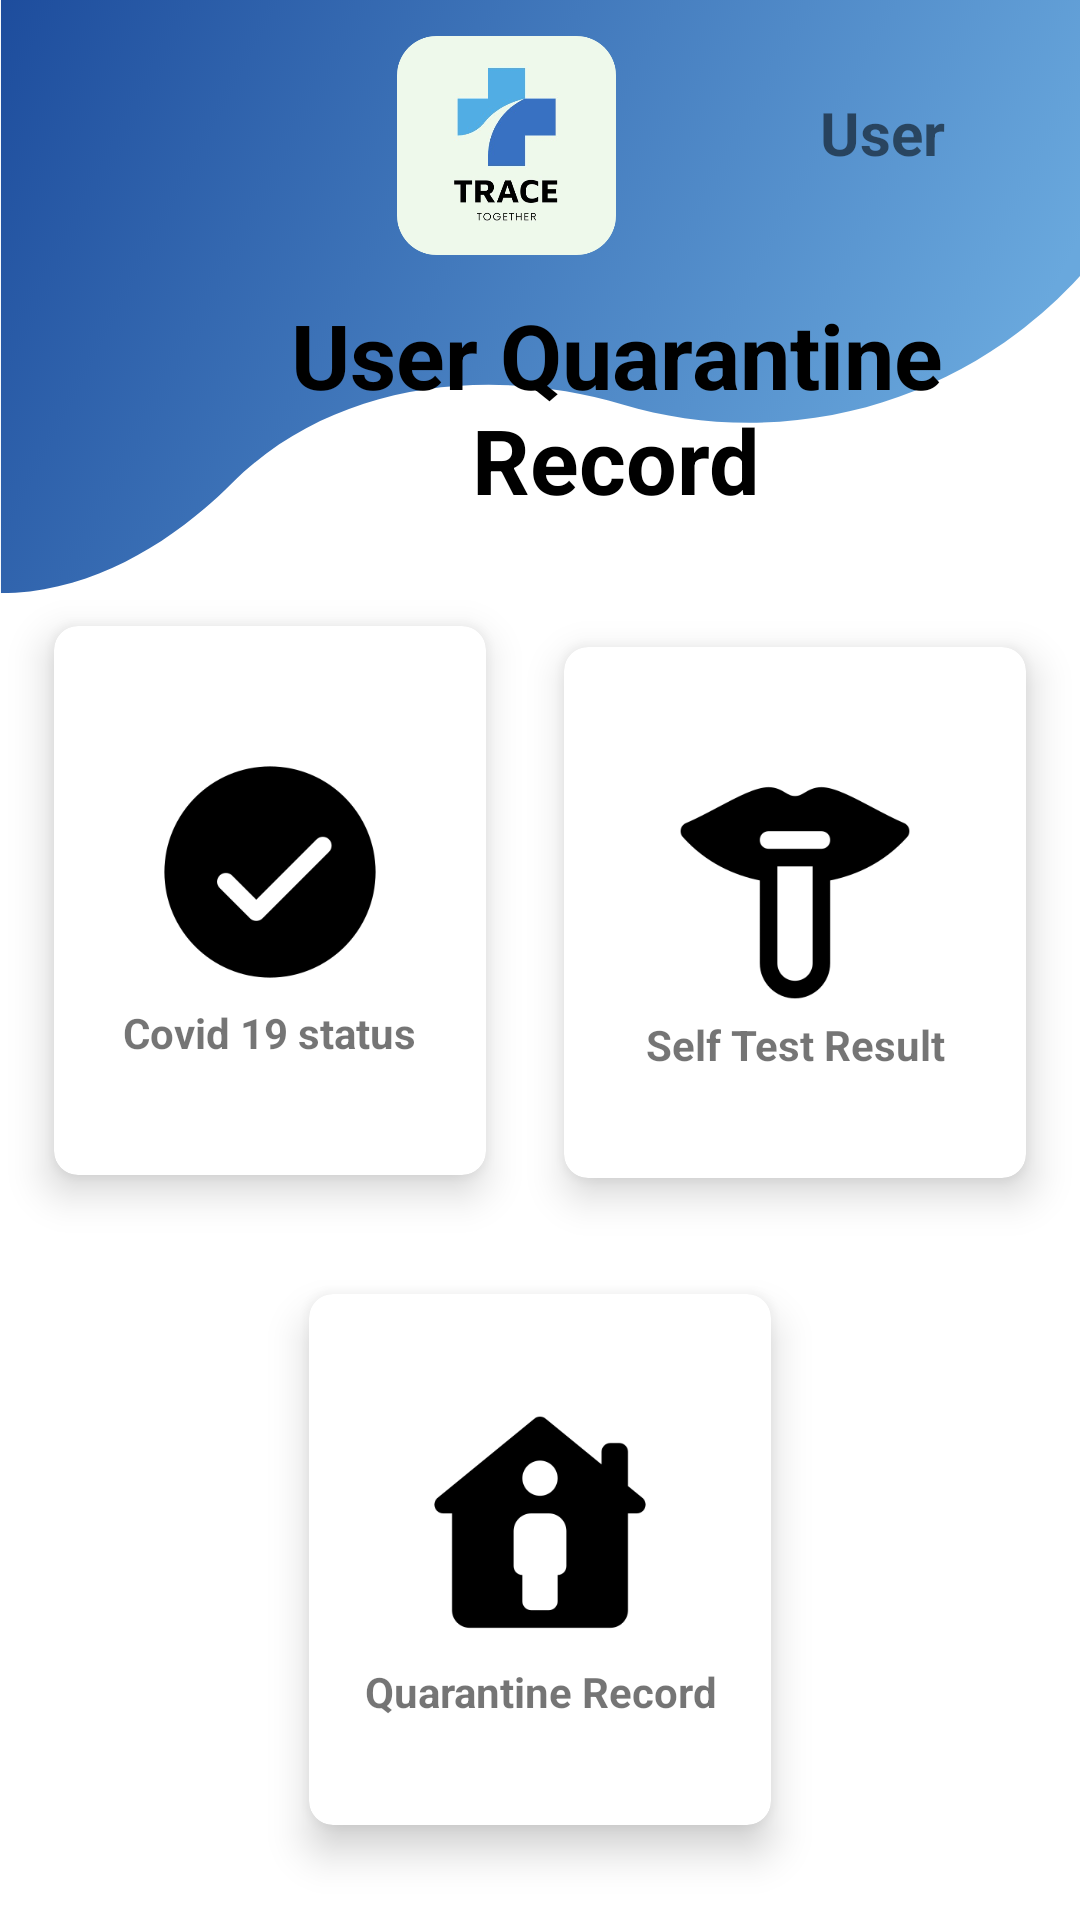

Point at icon controls on the screen. Image size 1080px×1920px, points as [x,y].
check: [270,872]
